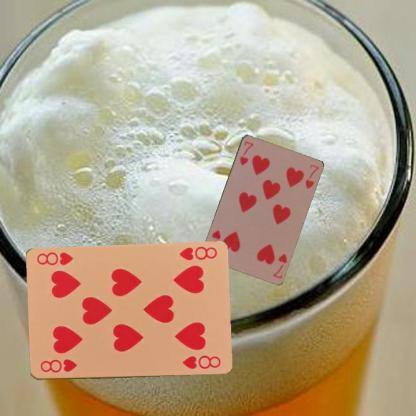7h: (270, 250, 288, 280), (237, 138, 255, 166)
8h: (38, 356, 78, 375), (176, 244, 218, 262)
